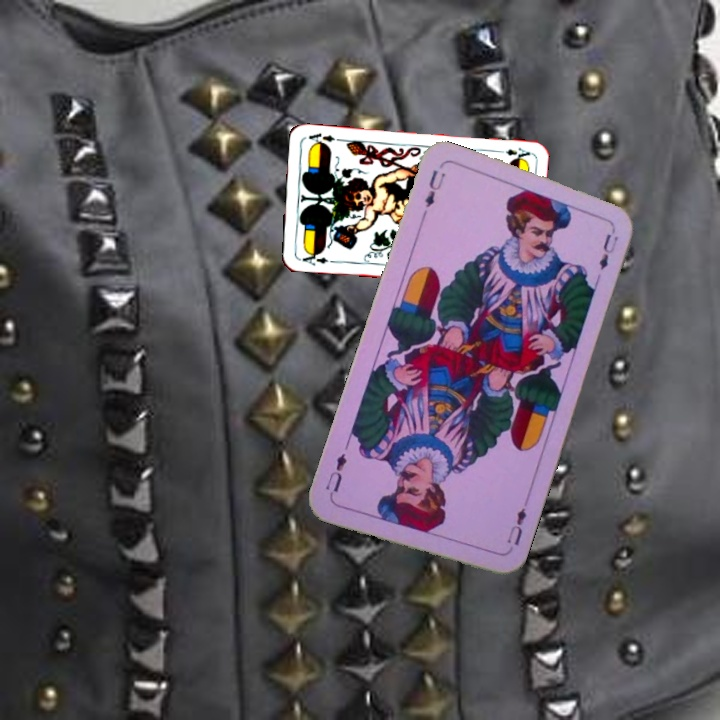EA: (492, 144, 533, 163), (295, 248, 331, 268)
EU: (421, 165, 448, 210), (503, 503, 529, 548)
